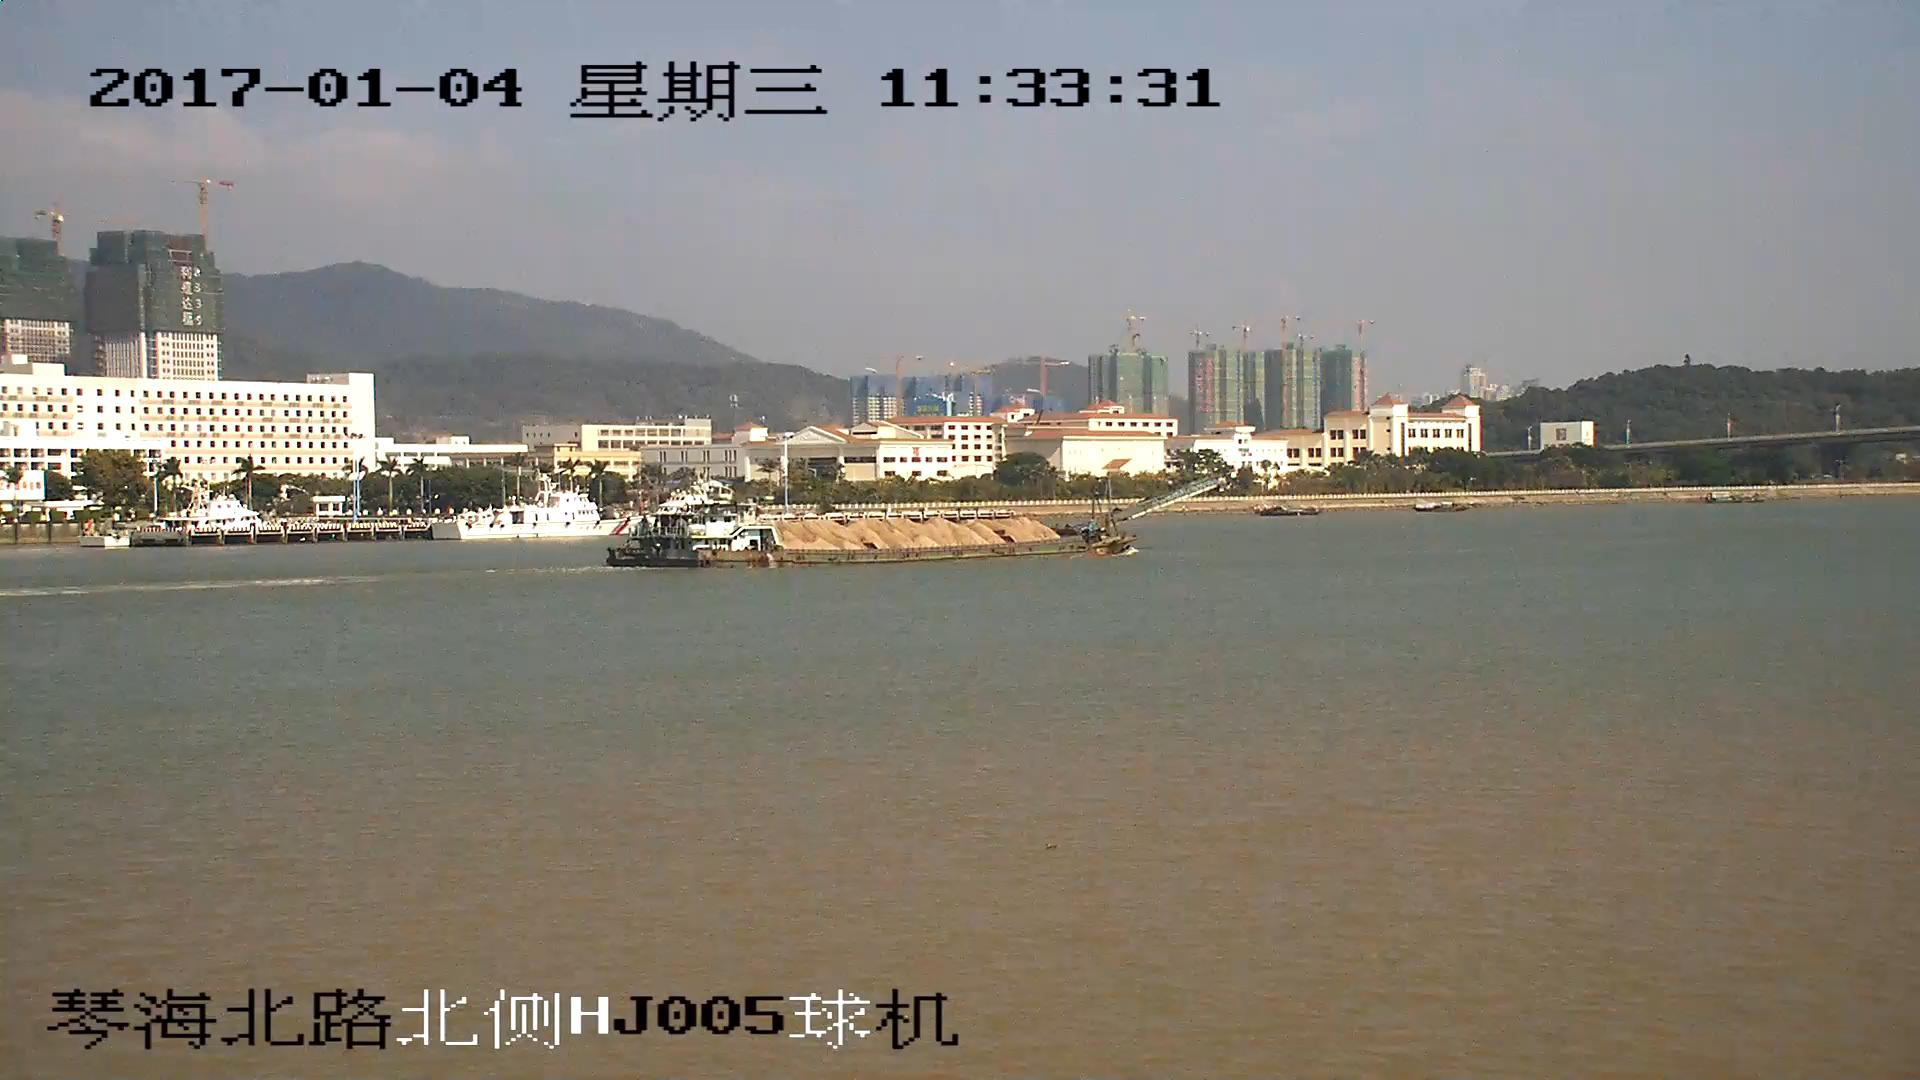ore carrier: (611, 475, 1225, 568)
